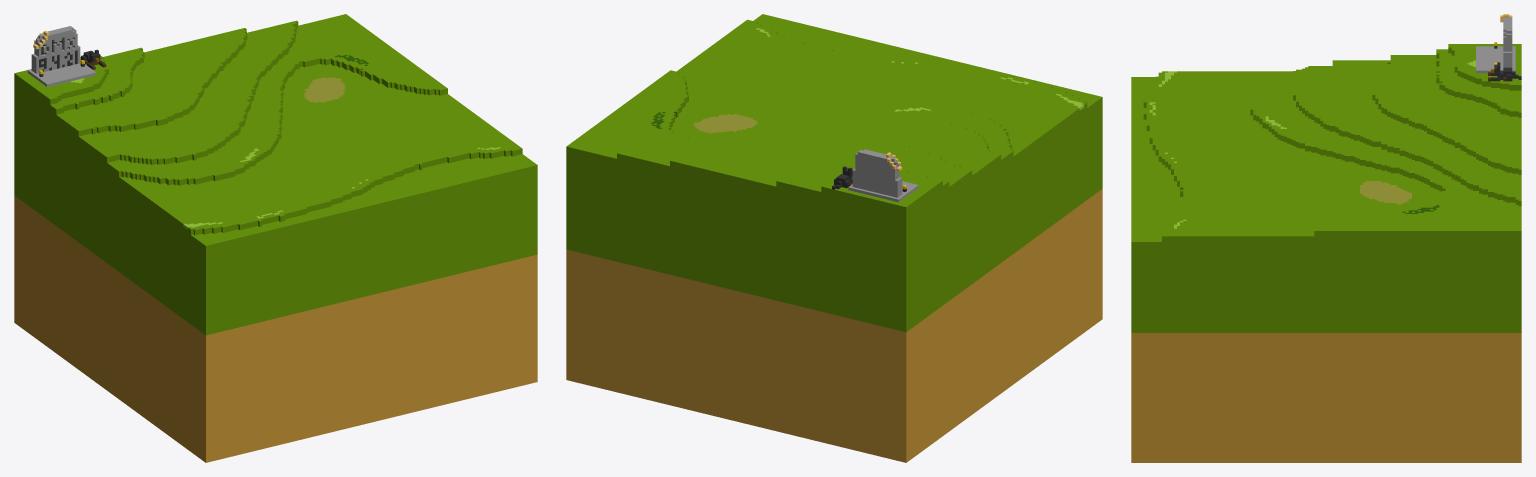
The picture shows the model from 3 angles, left to right: view 1: azimuth 30°, elevation 25°; view 2: azimuth 150°, elevation 25°; view 3: azimuth 270°, elevation 25°; orthographic projection. The views are drawn at different scales.
Visible parts, largest first — view 1: 8A; view 2: 8A; view 3: 8A.
Part boxes in pixels (left/top/right/bottom): 8A: left=14, top=14, right=537, bottom=462; 8A: left=566, top=14, right=1102, bottom=462; 8A: left=1131, top=14, right=1521, bottom=462.
Bounding box in the file's own units: 12.8 × 10.7 × 12.8.
Materials: 1 (1 with a texture image).
